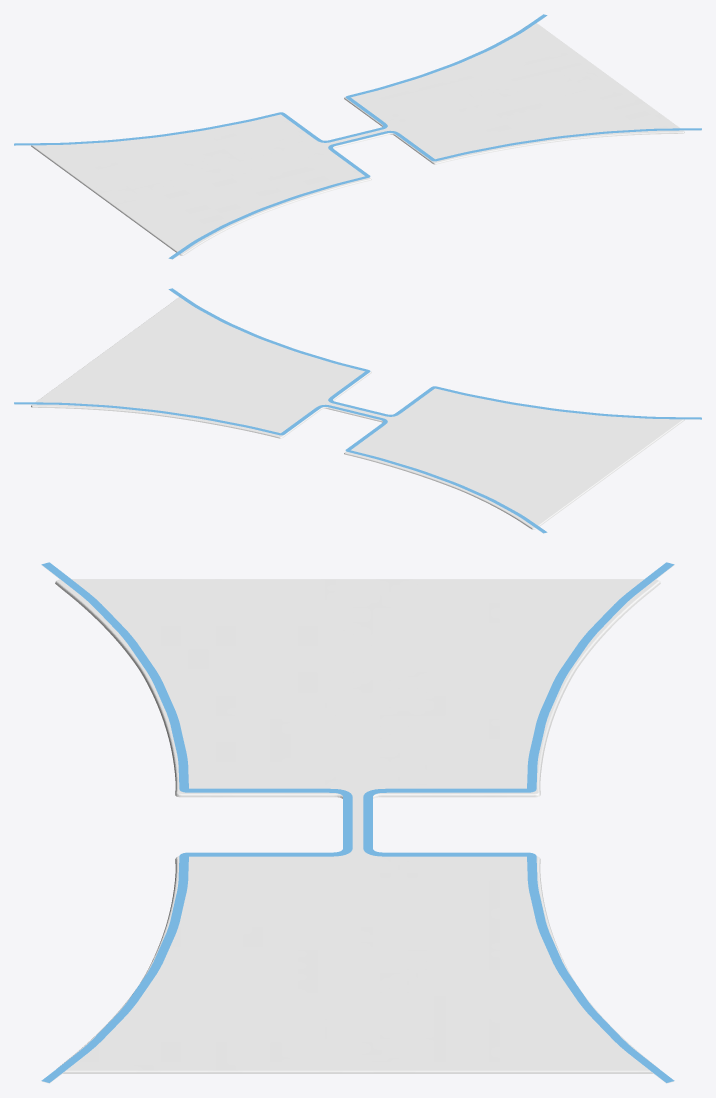
File: CentralCardPlaySlot.fbx
The picture shows the model from 3 angles, top to bottom: view 1: azimuth 30°, elevation 25°; view 2: azimuth 150°, elevation 25°; view 3: azimuth 270°, elevation 25°; orthographic projection. The views are drawn at different scales.
Visible parts, largest first — view 1: board_highlight_Full, board_highlight_Edge (4), board_highlight_Edge (2), board_highlight_Edge (1), board_highlight_Edge (3); view 2: board_highlight_Full, board_highlight_Edge (1), board_highlight_Edge (3), board_highlight_Edge (4), board_highlight_Edge (2); view 3: board_highlight_Full, board_highlight_Edge (1), board_highlight_Edge (4), board_highlight_Edge (2), board_highlight_Edge (3).
Part boxes in pixels (x1,y1,x2,y2): board_highlight_Full: (31,23,684,255); board_highlight_Edge (4): (359,128,701,161); board_highlight_Edge (2): (14,112,356,145); board_highlight_Edge (1): (345,14,547,135); board_highlight_Edge (3): (168,138,370,259); board_highlight_Full: (31,297,684,529); board_highlight_Edge (1): (14,402,356,435); board_highlight_Edge (3): (359,386,701,419); board_highlight_Edge (4): (168,288,370,409); board_highlight_Edge (2): (345,412,547,533); board_highlight_Full: (55,579,660,1073); board_highlight_Edge (1): (363,822,674,1082); board_highlight_Edge (4): (41,822,352,1082); board_highlight_Edge (2): (363,562,674,822); board_highlight_Edge (3): (41,562,352,822).
Size of the model in its own units: 77.13 by 0.3254 by 39.64.
